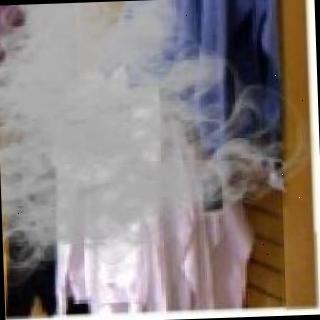smoke: (0, 0, 312, 288)
